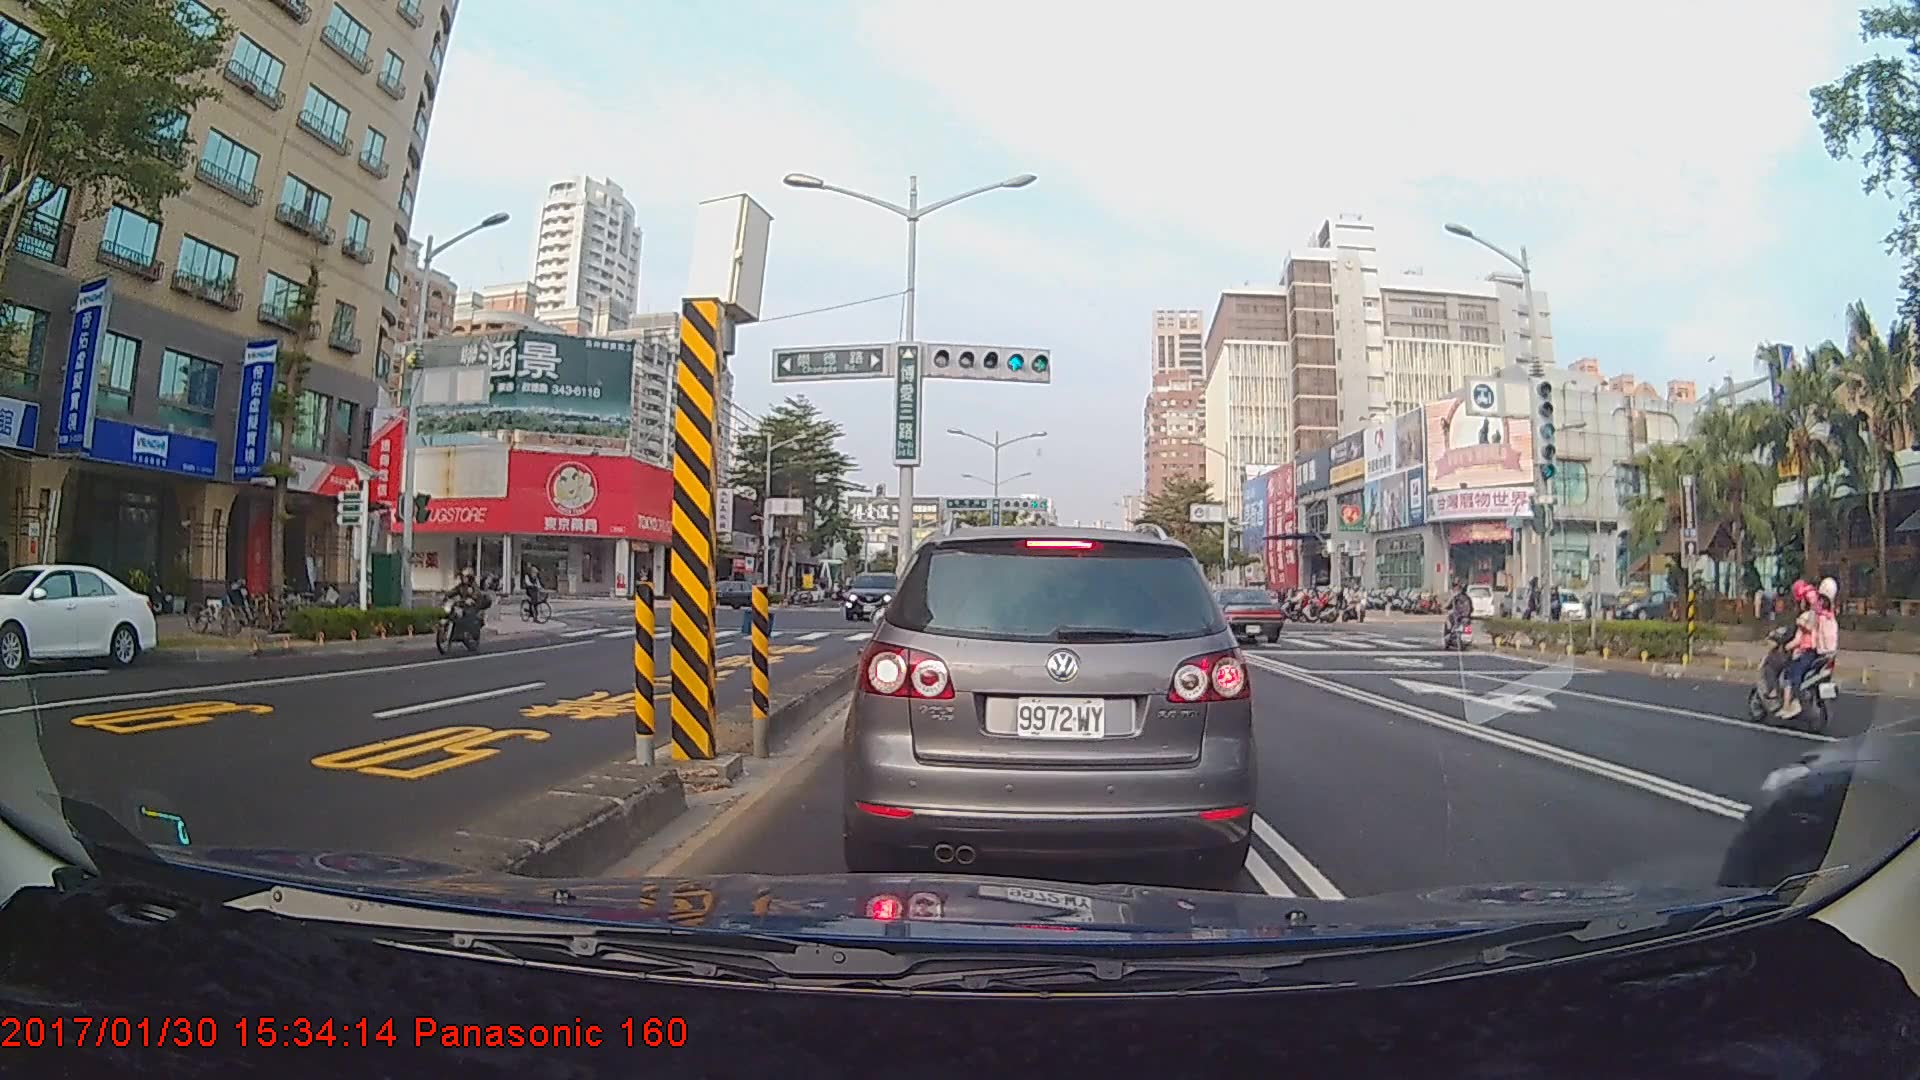pedestrian: (1751, 580, 1774, 644)
rider: (1746, 577, 1845, 730), (434, 564, 495, 659), (518, 559, 561, 629), (1446, 582, 1480, 656)
vehicle: (854, 523, 1249, 878), (0, 561, 162, 671), (1196, 585, 1284, 643), (841, 569, 905, 619), (681, 579, 770, 611)
